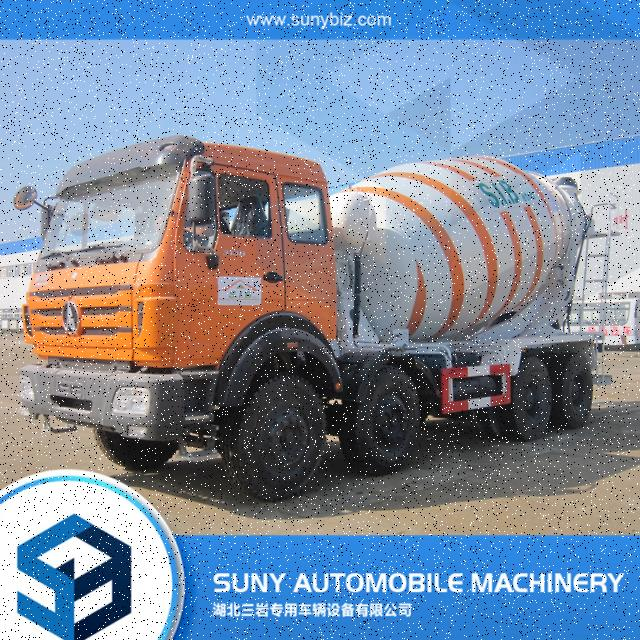Mixer Truck: (19, 136, 612, 502)
